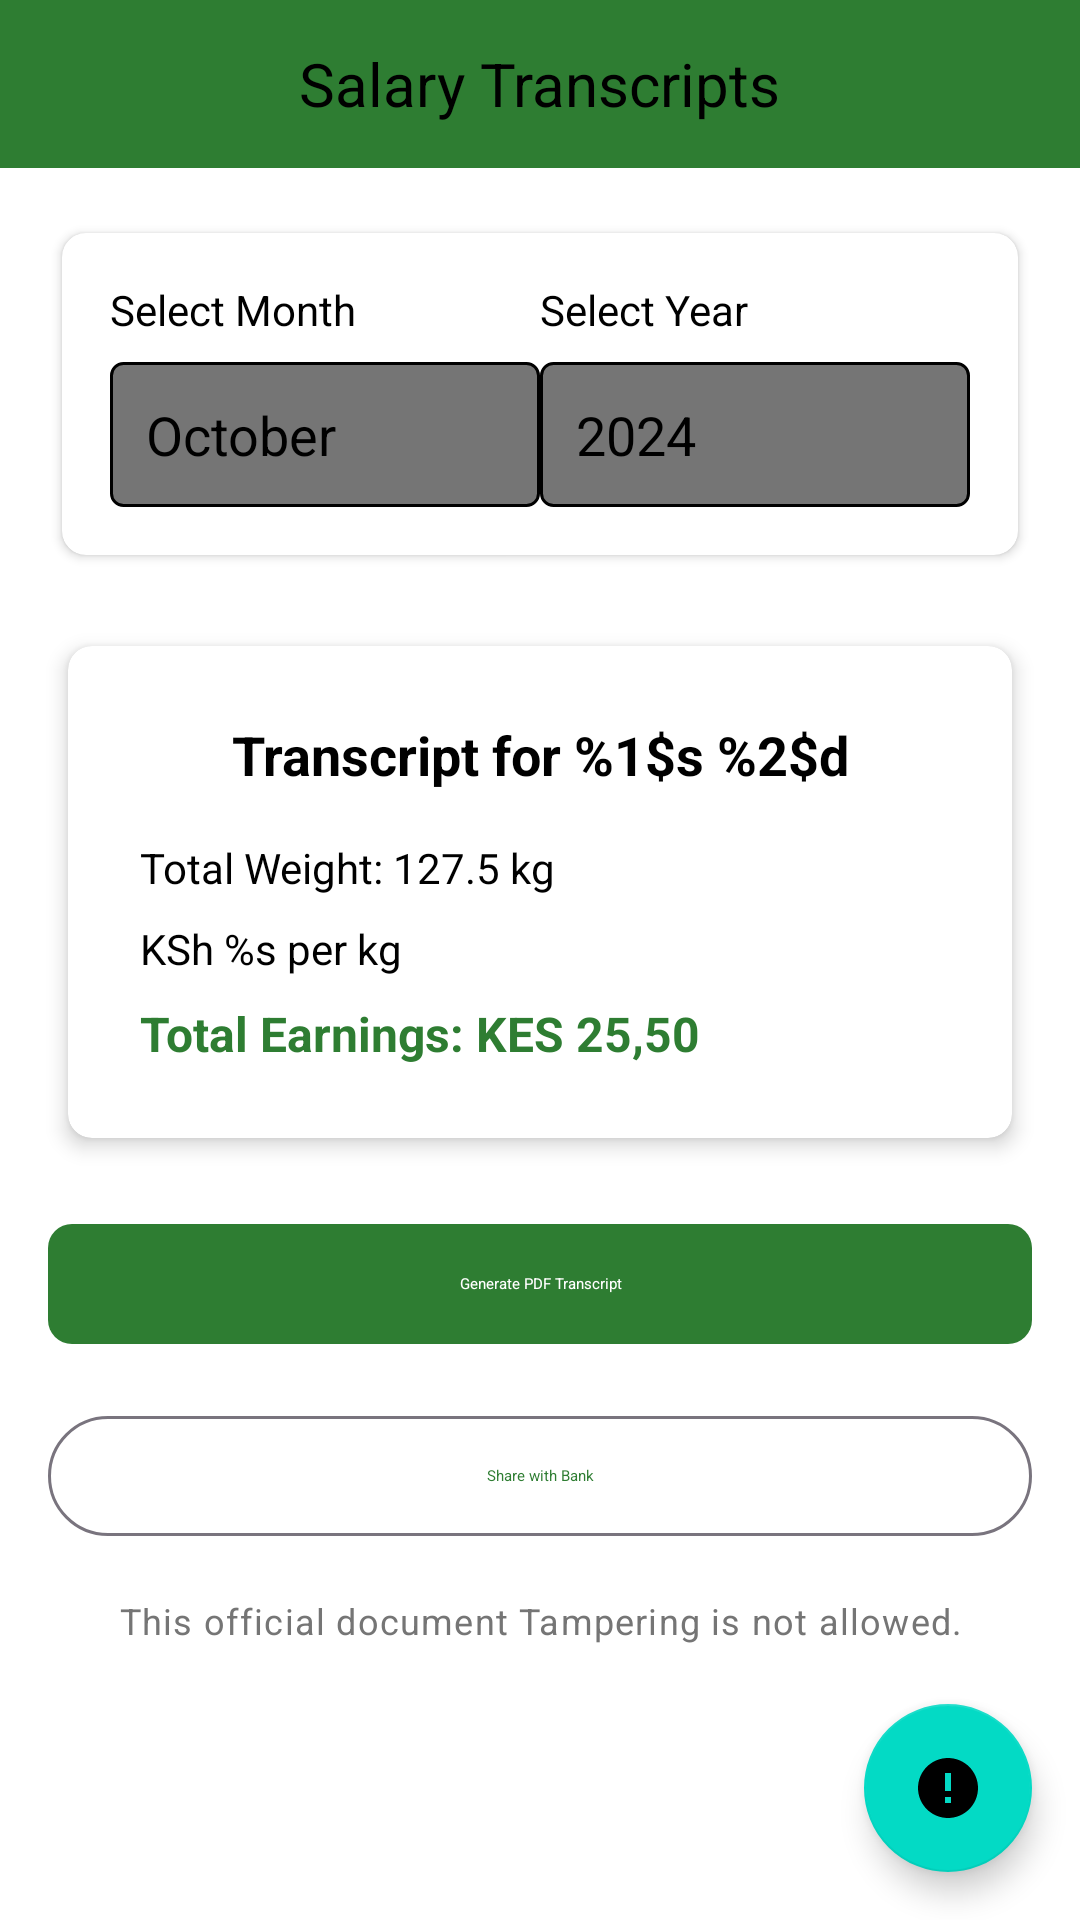

Where to tap for icons on this 1080 x 1920 app screen, as point (x, y):
Report Issue: point (948, 1788)
